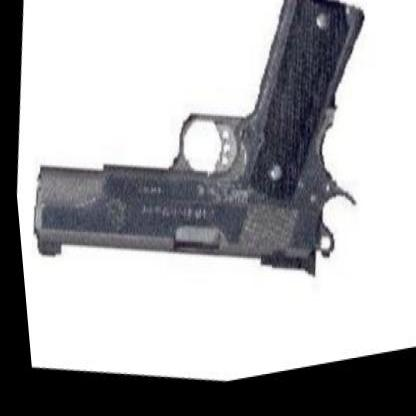pistol: (12, 0, 391, 341)
